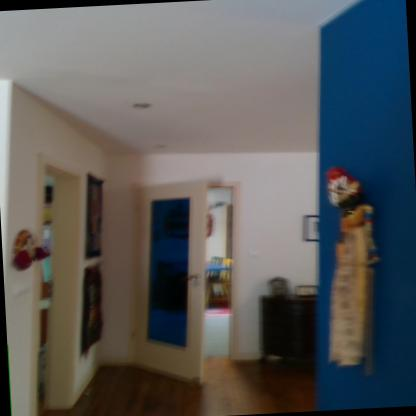semi: (124, 170, 258, 386)
